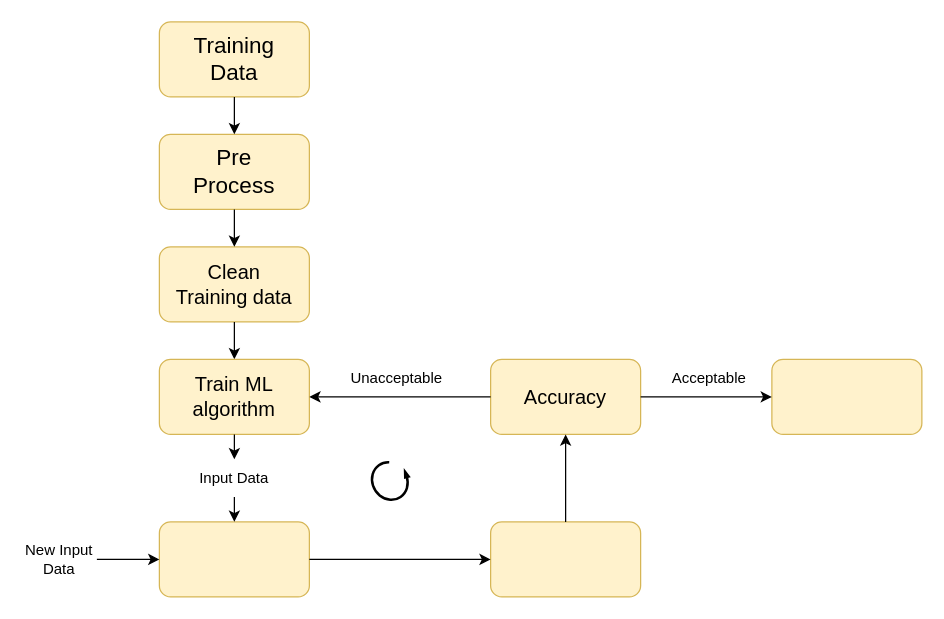
Some shapes in this 944 by 619 pixel diagram are drawn without their labels. Here are the shapes that lost their labels. From the top down, the box of each, then its label:
(771, 358, 922, 434): Deploy the Successful model
(158, 521, 309, 597): ML Algorithm
(489, 521, 641, 597): Prediction
